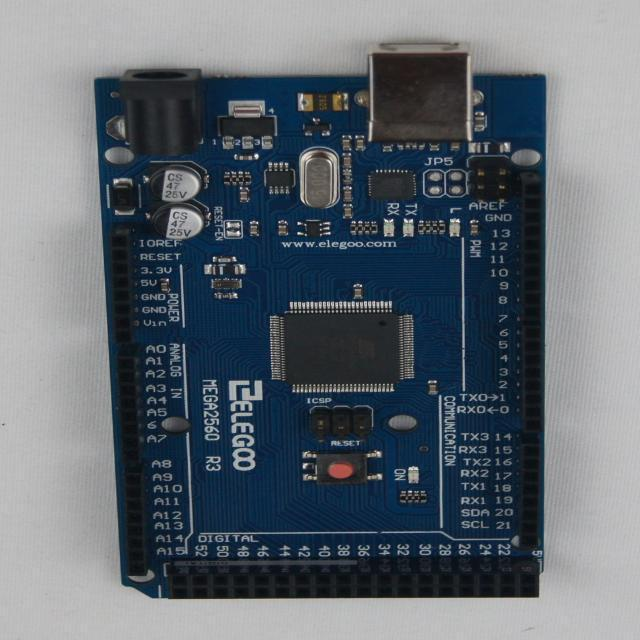Arduino Mega 2560 -Blue-: (96, 44, 546, 599)
